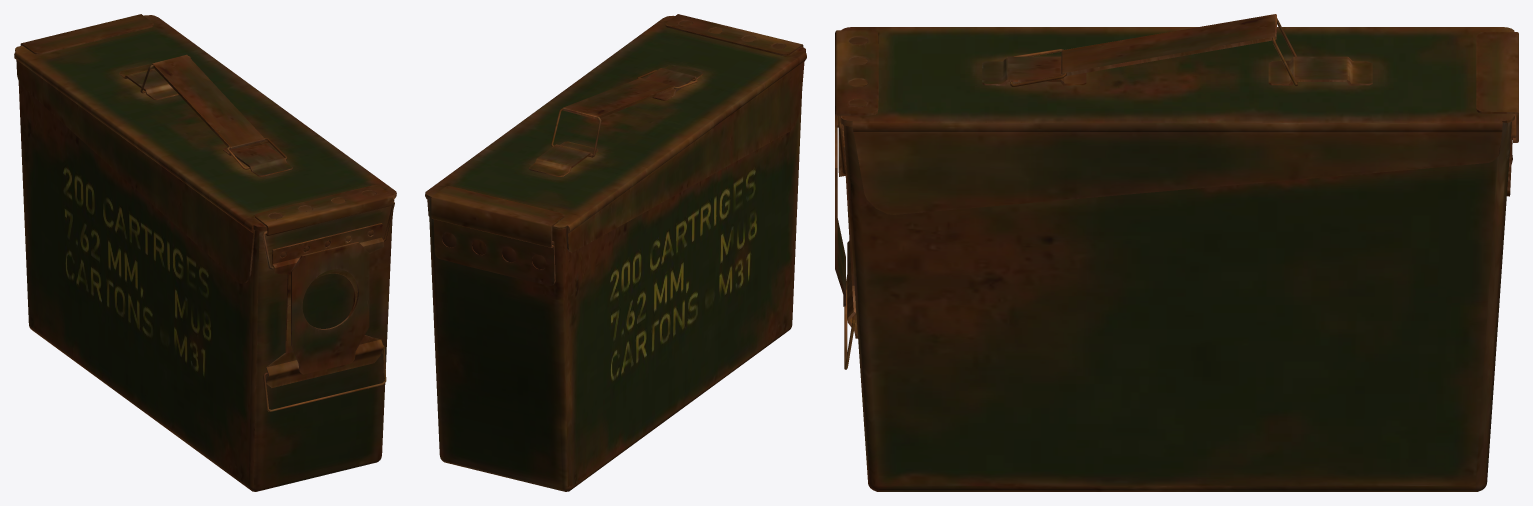
Rendered from ammo_box.glb.
3 renders of one model, left to right at view 1: azimuth 30°, elevation 25°; view 2: azimuth 150°, elevation 25°; view 3: azimuth 270°, elevation 25°, orthographic. The views are drawn at different scales.
Parts seen in each view (by area): view 1: ammo_box_handle_ring_b; view 2: ammo_box_handle_ring_b; view 3: ammo_box_handle_ring_b.
Part boxes in pixels (<box>): ammo_box_handle_ring_b: <box>14,14,396,491</box>; ammo_box_handle_ring_b: <box>425,14,806,491</box>; ammo_box_handle_ring_b: <box>835,14,1518,491</box>.
Size of the model in its own units: 0.0865 by 0.1773 by 0.2578.
Materials: 1 (1 with a texture image).
